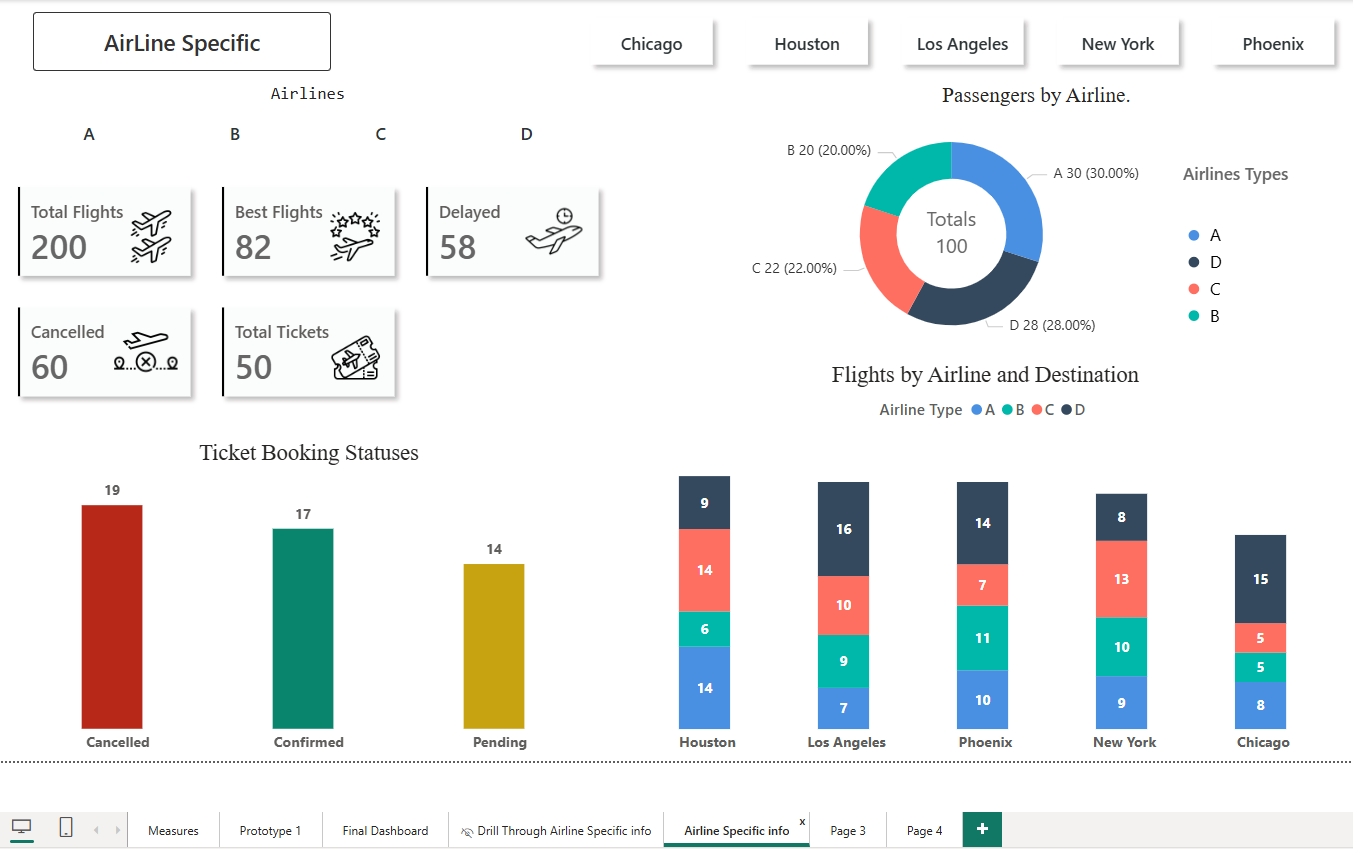

This screenshot's page, from the dashboard's own definition file:
{"tool":"powerbi","page":{"name":"Airline Specific info","canvas":[1280,720],"ordinal":4},"visuals":[{"type":"DonutChartGMO1461469098694","title":"Passengers by Airline.","fields":{"Category":["Flight_Information.Airline Type"],"Y":["CountNonNull(Passenger_Information.PassengerID)"]},"box":[681.3,78.9,598.7,263.1],"z":0},{"type":"columnChart","title":"Flights by Airline and Destination","fields":{"Category":["Flight_Information.Destination"],"Series":["Flight_Information.Airline Type"],"Y":["CountNonNull(Flight_Information.FlightID)"]},"box":[584.8,342.1,695.2,377.9],"z":1000},{"type":"shape","box":[49.9,10.9,328.4,55.3],"z":2000},{"type":"clusteredColumnChart","title":"Ticket Booking Statuses","fields":{"Category":["Ticket_Information.BookingStatus"],"Y":["CountNonNull(Ticket_Information.FlightID)"]},"box":[0,416,584.6,304.2],"z":3000},{"type":"advancedSlicerVisual","title":"Airlines","fields":{"Values":["Flight_Information.Airline Type"]},"box":[14.5,78.9,554.3,69.9],"z":5000},{"type":"advancedSlicerVisual","title":"Destination","fields":{"Values":["Flight_Information.Destination"]},"box":[542.5,0,737.5,78.9],"z":6000},{"type":"cardVisual","fields":{"Data":["measures (2).Total Flights","measures (2).Best Flights","measures (2).To Be Improved Flights","measures (2).critical Flights","measures (2).Total Tickets"]},"box":[0,160.3,584.6,232.7],"z":6001}]}

Visuals, with their boxes on the page's 1280x720 design canvas (x1, y1, x2, y2). These are canvas units, not pixel positions in the 1353x849 screenshot, which may show the page scaled, cropped or inside an application window:
"Passengers by Airline." DonutChartGMO1461469098694: l=681, t=79, r=1280, b=342
"Flights by Airline and Destination" columnChart: l=585, t=342, r=1280, b=720
shape: l=50, t=11, r=378, b=66
"Ticket Booking Statuses" clusteredColumnChart: l=0, t=416, r=585, b=720
"Airlines" advancedSlicerVisual: l=14, t=79, r=569, b=149
"Destination" advancedSlicerVisual: l=542, t=0, r=1280, b=79
cardVisual - measures (2).Total Flights x measures (2).Best Flights: l=0, t=160, r=585, b=393
